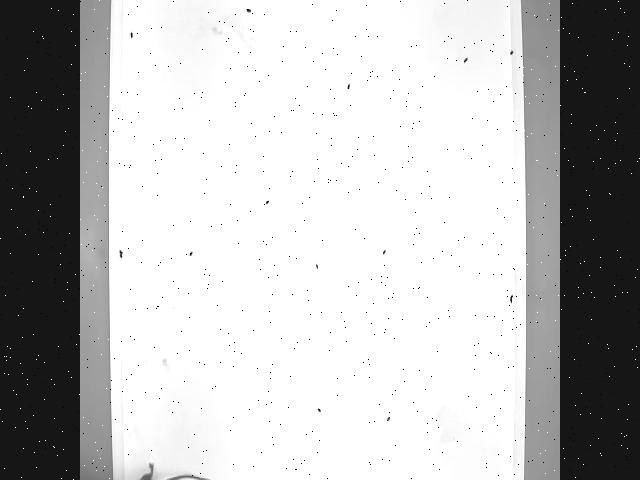Tikus: (97, 453, 211, 480)
